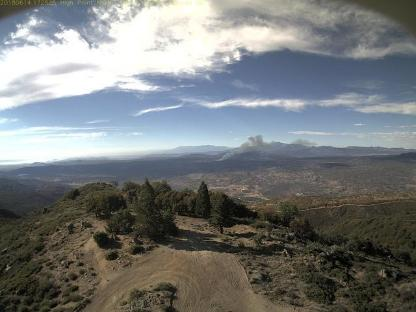smoke: (211, 132, 314, 166)
